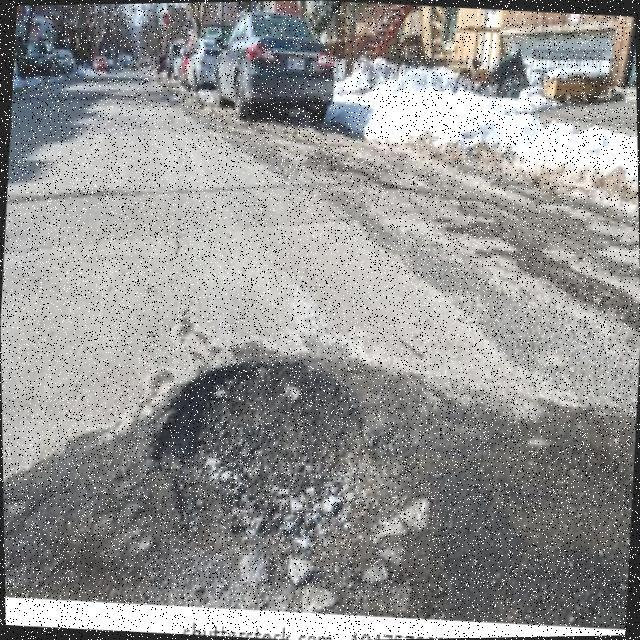Pothole: (147, 361, 361, 556)
